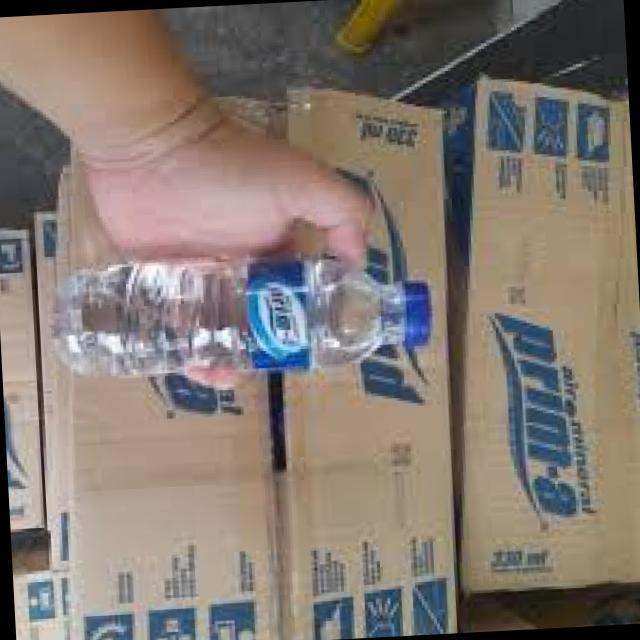good: (44, 240, 454, 398)
